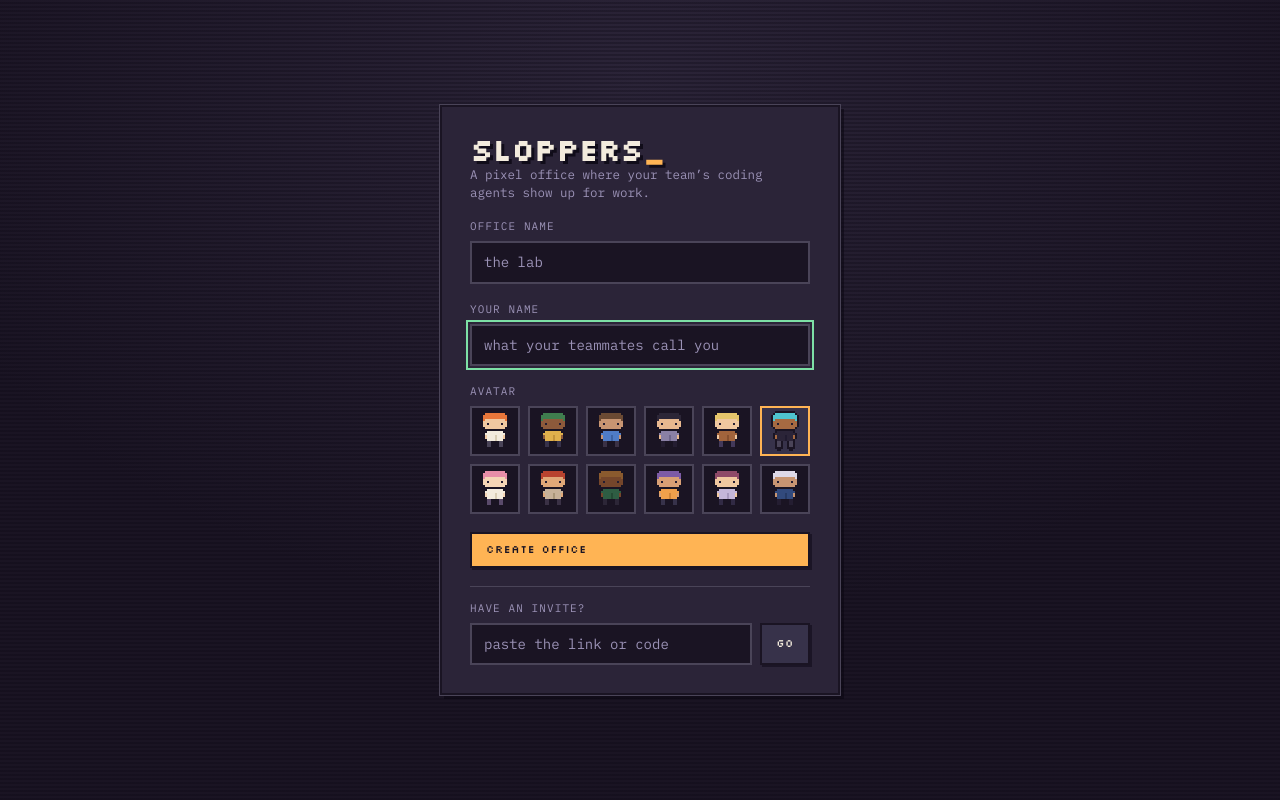
Test: JoinScreen › clears its objection as soon as the field is being fixed
Type "ridham" into the field labelled "Your name" at {"x": 640, "y": 345}, box [470,324,810,366]
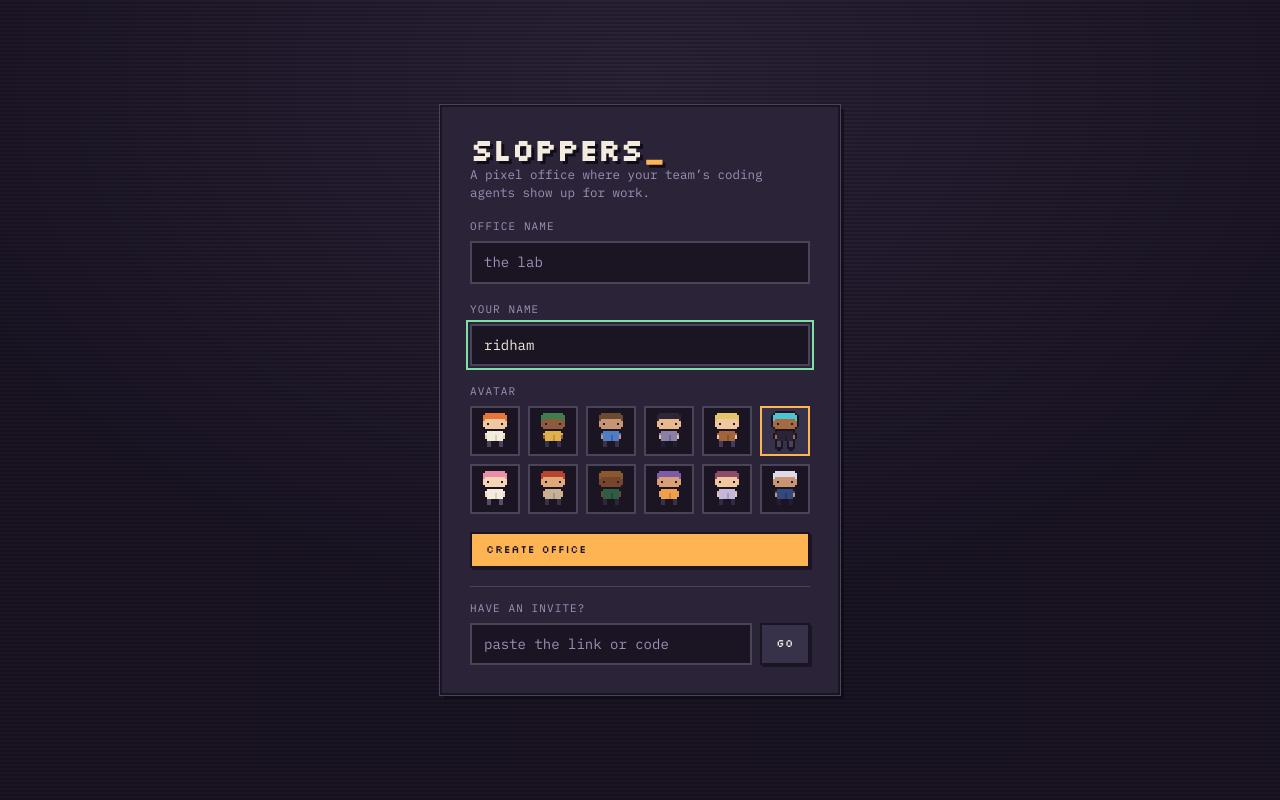
Submit the form, box [440,105,840,695]
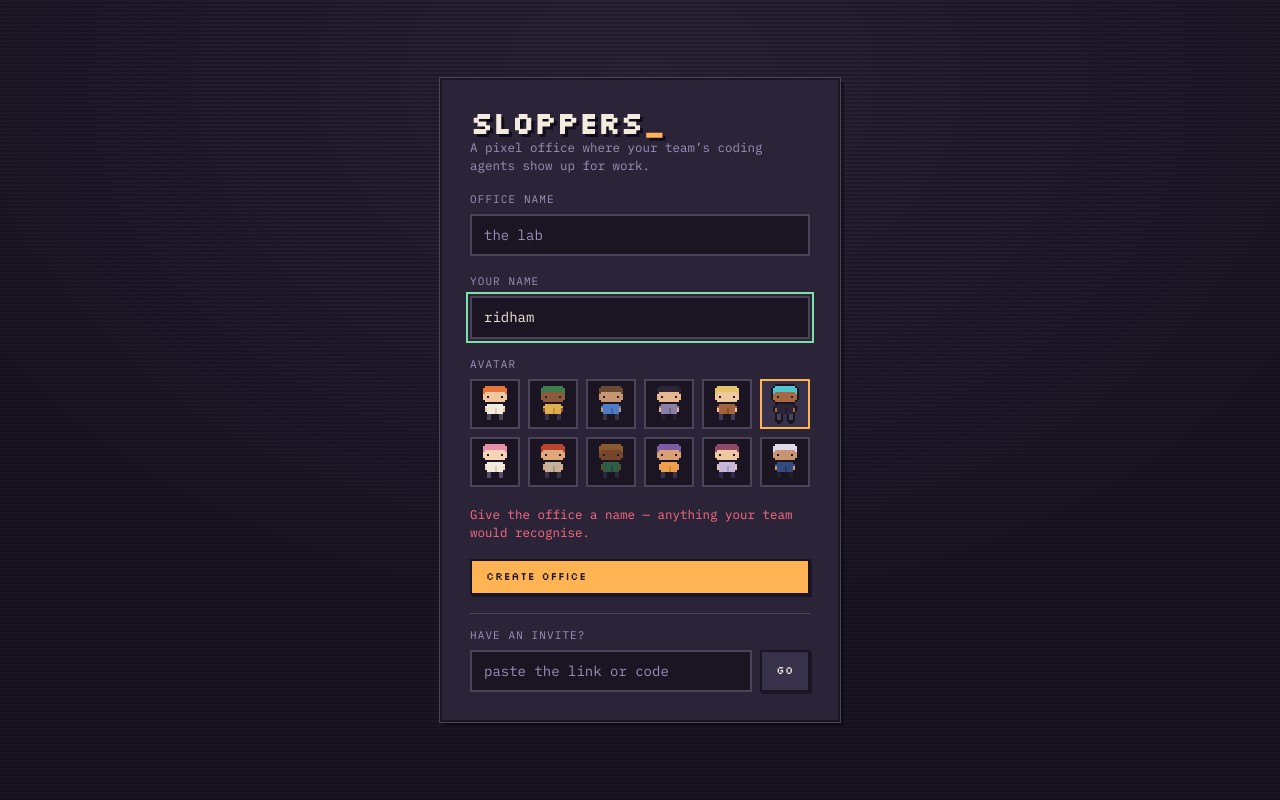
expect the text "Give the office a name — anything your team would recognise." is shown: met, box [470,505,810,541]
Type "t" into the field labelled "Office name" at {"x": 640, "y": 235}, box [470,214,810,256]
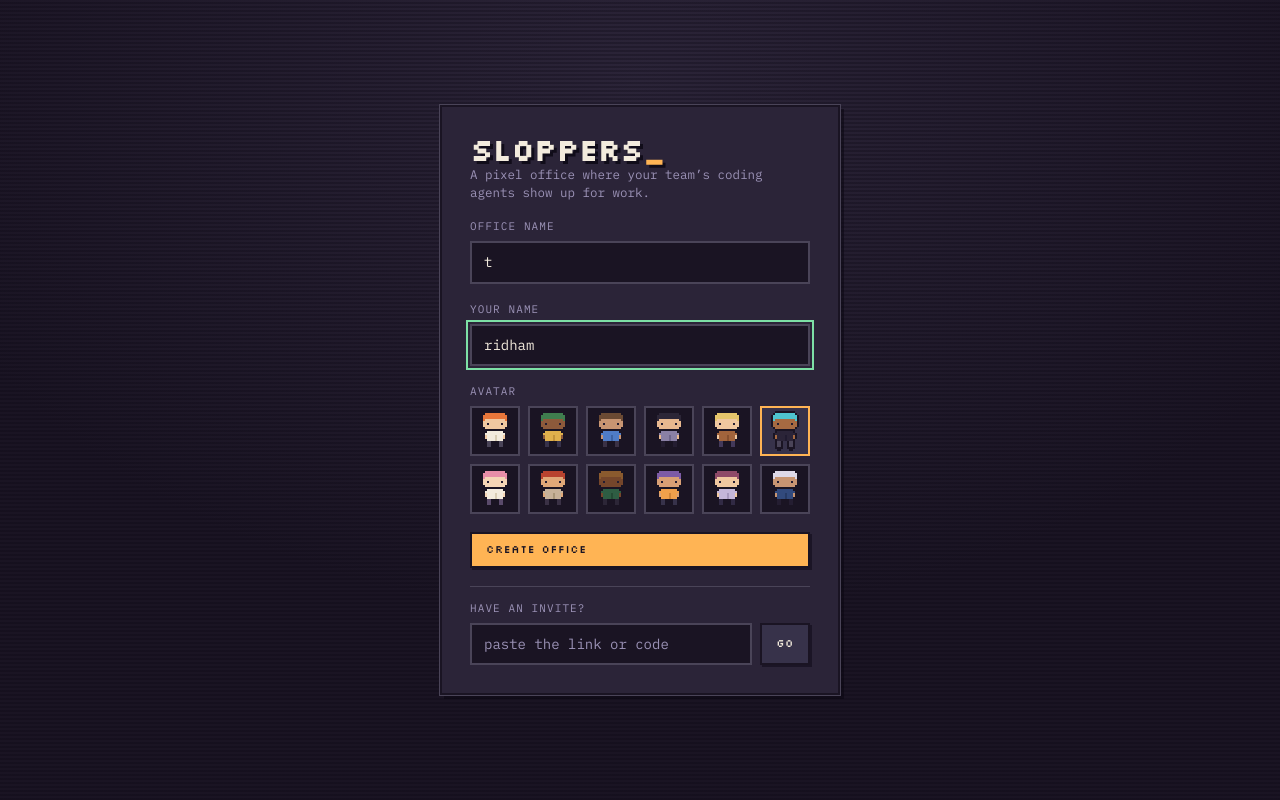
expect the text "Give the office a name" is gone: met
